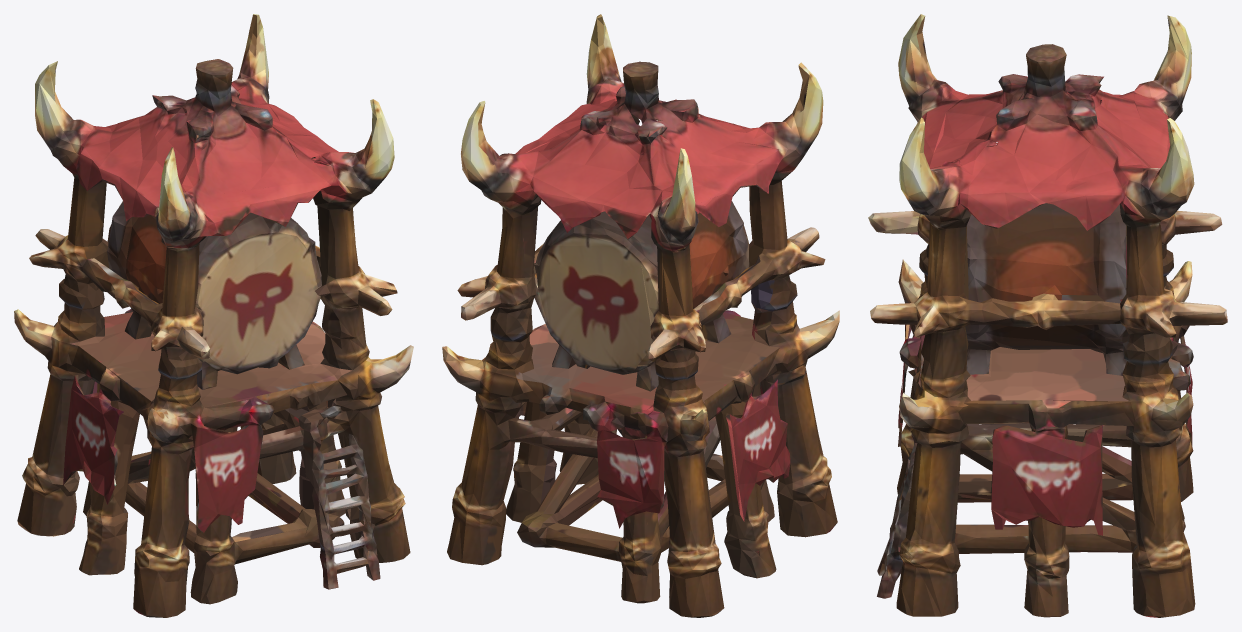
File: orc_drum_tower_1117.glb
3 renders of one model, left to right at view 1: azimuth 30°, elevation 25°; view 2: azimuth 150°, elevation 25°; view 3: azimuth 270°, elevation 25°, orthographic. The views are drawn at different scales.
Parts seen in each view (by area): view 1: tmp199r9un8.ply; view 2: tmp199r9un8.ply; view 3: tmp199r9un8.ply.
Boxes of the visible parts, left/top/right/bottom form: tmp199r9un8.ply: left=14, top=14, right=413, bottom=617; tmp199r9un8.ply: left=442, top=14, right=839, bottom=617; tmp199r9un8.ply: left=868, top=14, right=1227, bottom=617.
Bounding box in the file's own units: 1.18 × 1.99 × 1.29.
1 material, 1 textured.
